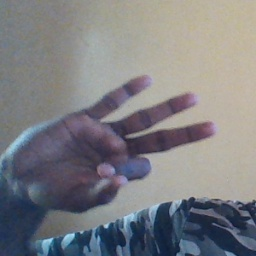K: (16, 73, 216, 214)
